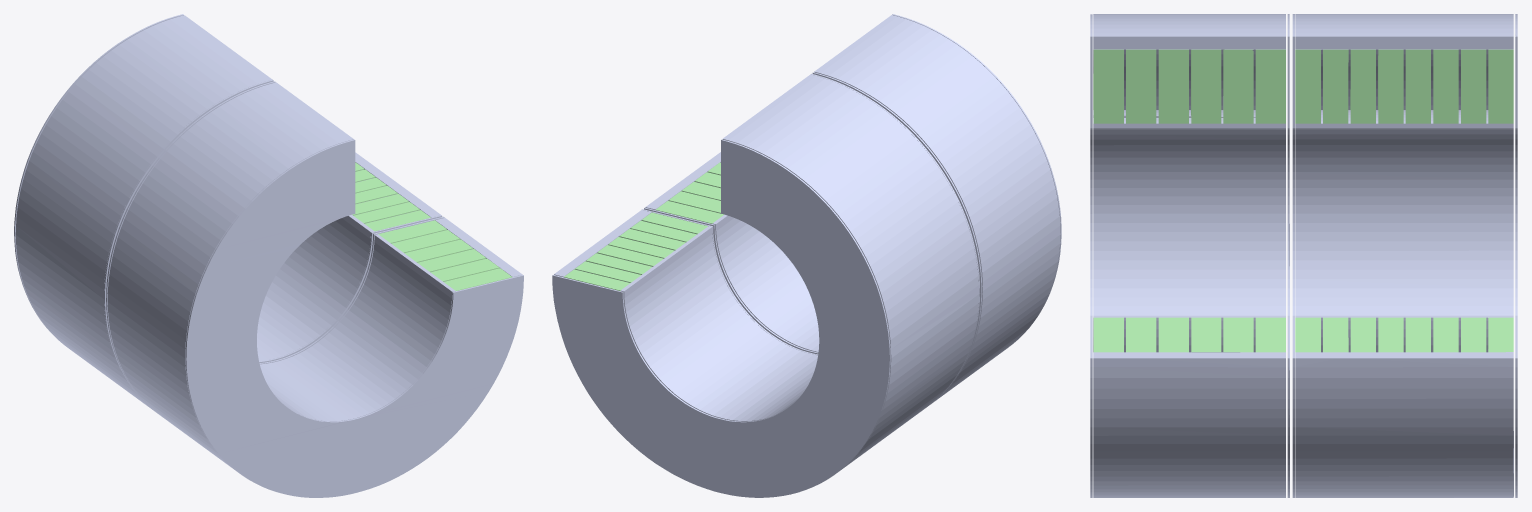
File: TRT-SideC-cut3-transformed.glb
The picture shows the model from 3 angles, left to right: view 1: azimuth 30°, elevation 25°; view 2: azimuth 150°, elevation 25°; view 3: azimuth 270°, elevation 25°; orthographic projection. The views are drawn at different scales.
Visible parts, largest first — view 1: null; view 2: null; view 3: null.
Boxes of the visible parts, x1,y1,x2,y2 form: null: [14, 14, 523, 497]; null: [552, 14, 1061, 497]; null: [1090, 14, 1517, 497].
Bounding box in the file's own units: 2.14 × 2.13 × 1.89.
